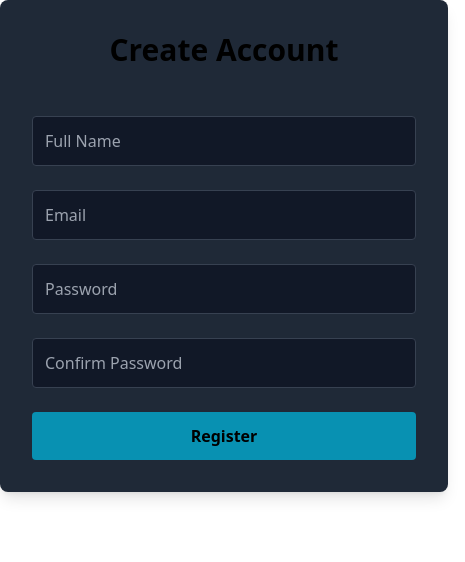
Test case: RegisterForm › Password Validation › fails if password is less than 8 characters
Type "Jane Doe" into the field with placeholder "Full Name".
click(224, 141); type("Jane Doe")  # box x1=32 y1=116 x2=416 y2=166
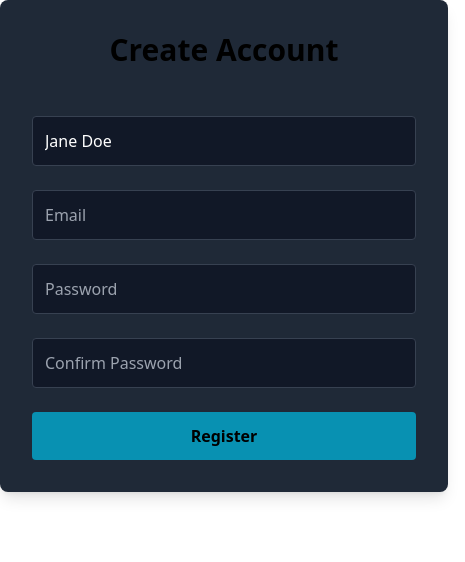
Type "jane@example.com" into the field with placeholder "Email".
click(224, 215); type("jane@example.com")  # box x1=32 y1=190 x2=416 y2=240
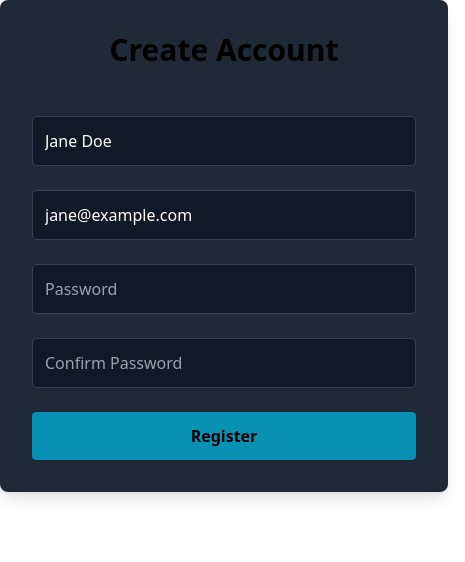
Type "Pass1!" into the password field with placeholder "Password".
click(224, 289); type("Pass1!")  # box x1=32 y1=264 x2=416 y2=314
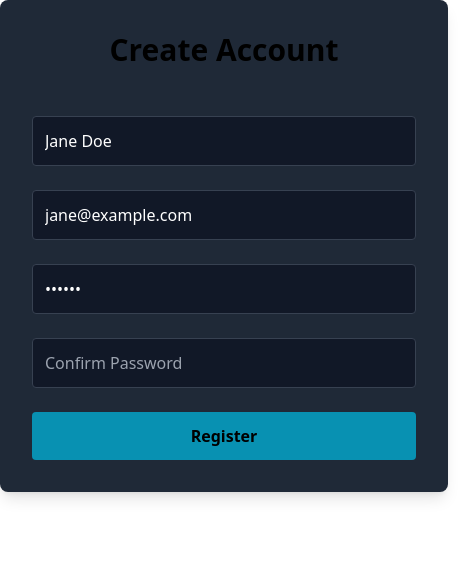
Type "Pass1!" into the password field with placeholder "Confirm Password".
click(224, 363); type("Pass1!")  # box x1=32 y1=338 x2=416 y2=388
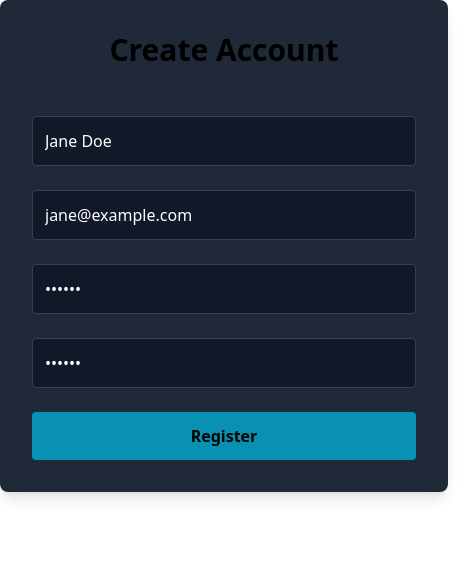
Click the button "Register".
click(224, 436)  # box x1=32 y1=412 x2=416 y2=460
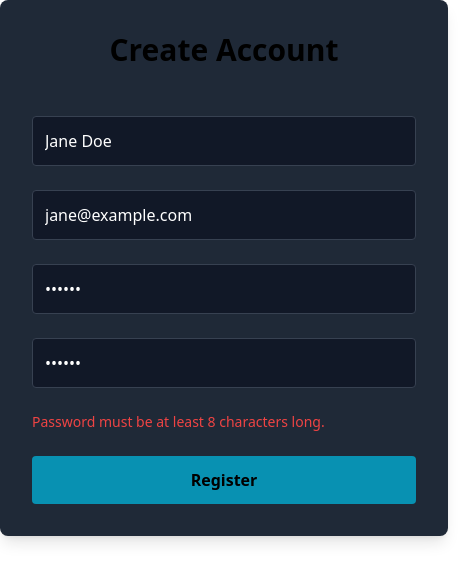
Expected: the text "Password must be at least 8 characters long." is shown, x1=32 y1=412 x2=325 y2=431
